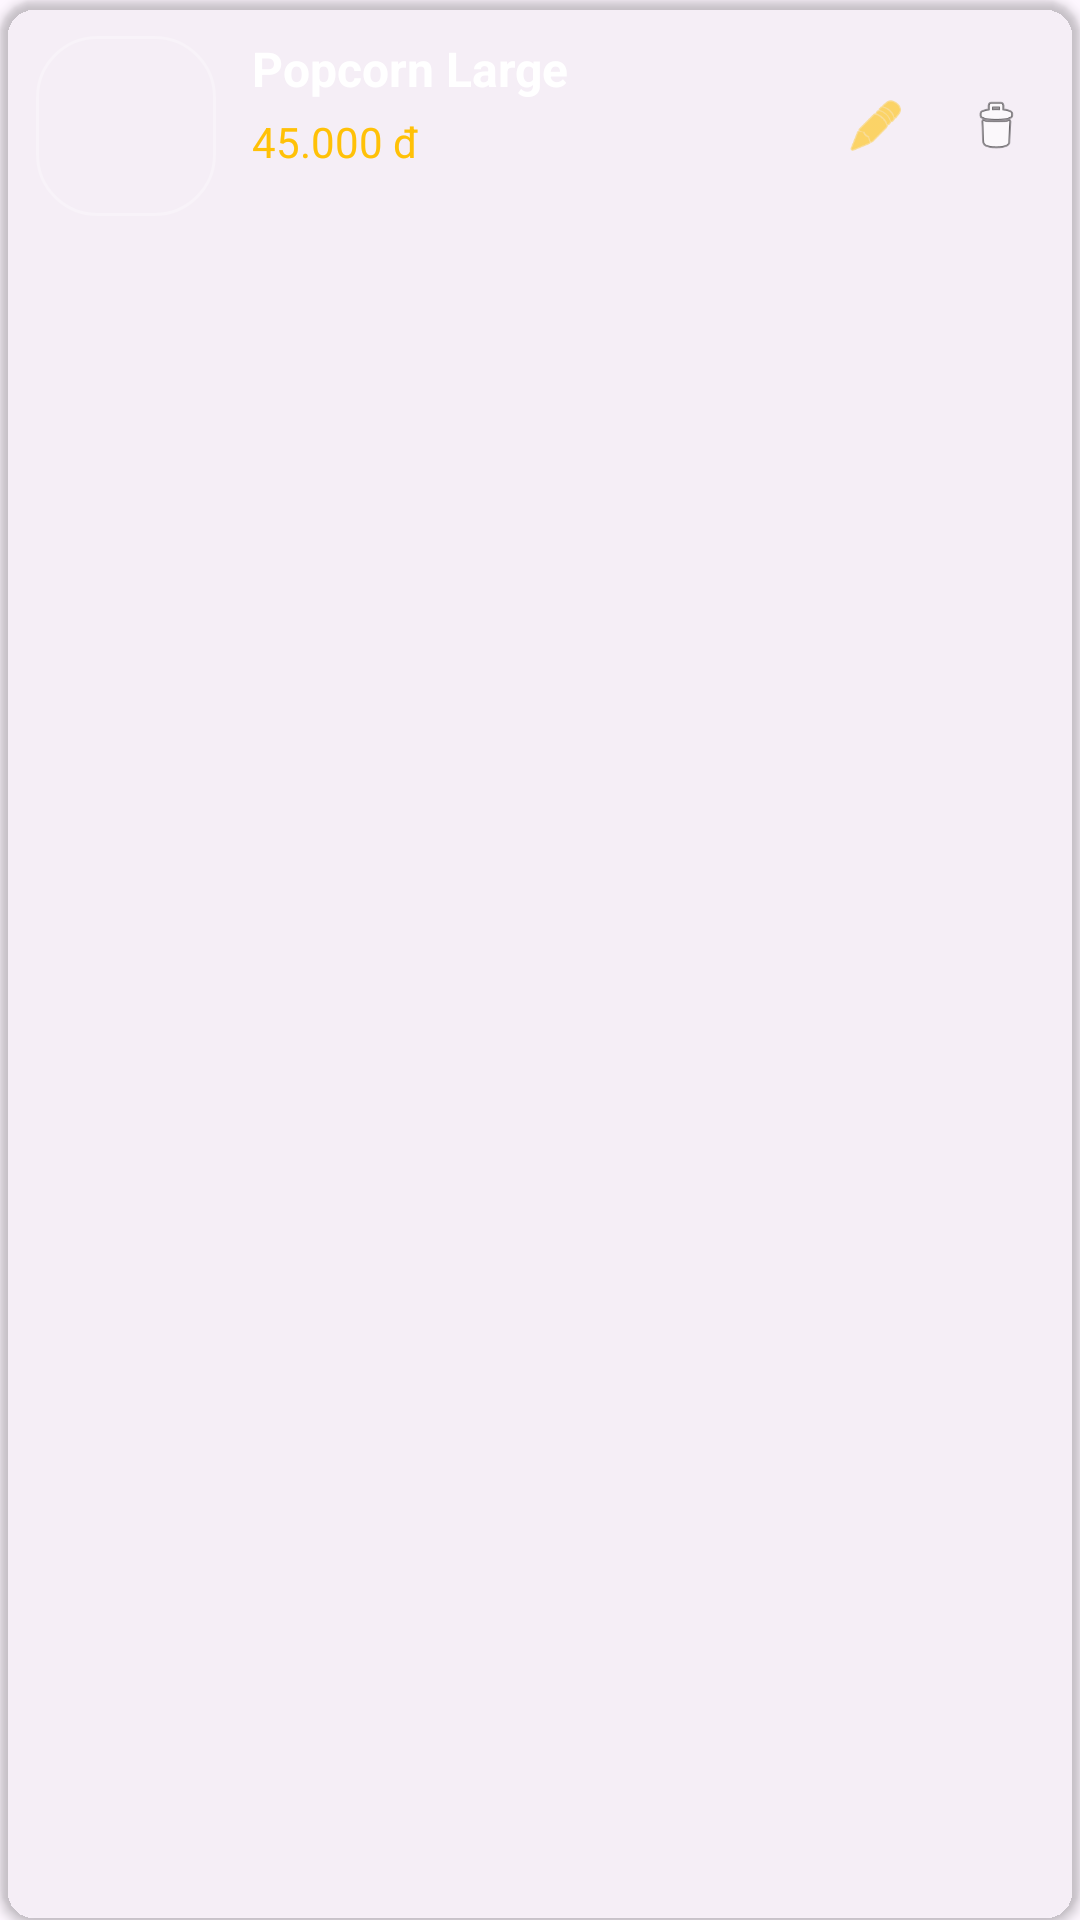

Icons on this 1080*1920 Android screen, each with the point to tap as [x,y]:
delete: [996,125]
edit: [875,125]
